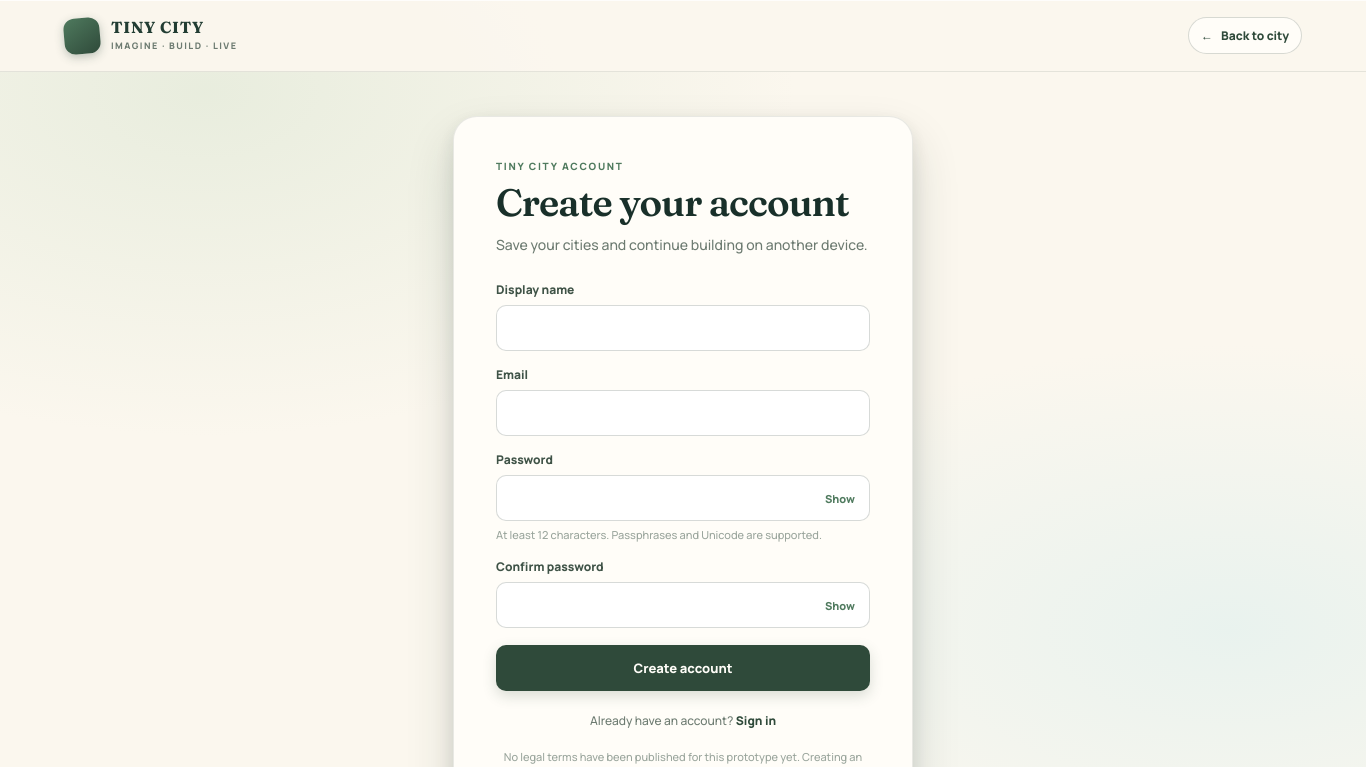
it: account entry flows › shows the email delivery result instead of signing a new account in automatically
Type "Huy" into the field labelled "Display name". click: (683, 328)
box: [496,305,870,351]
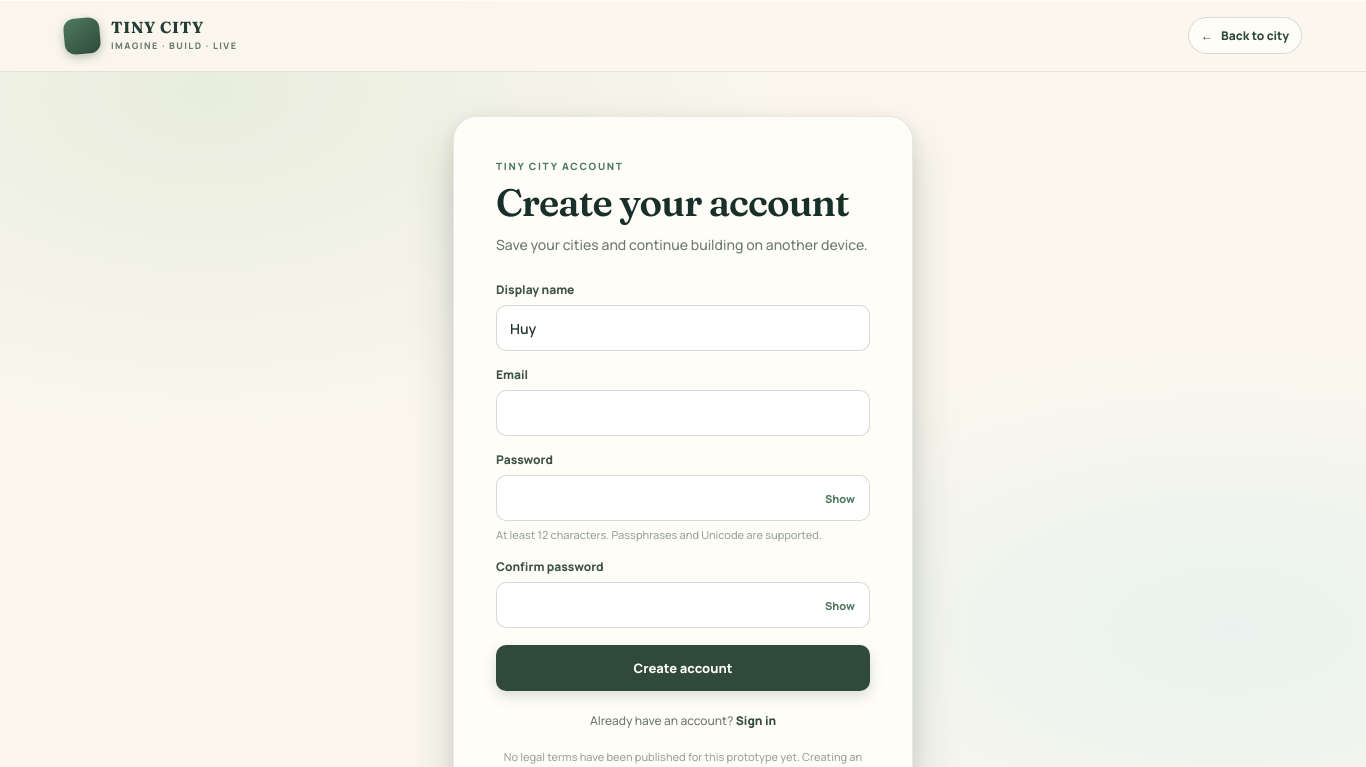
Type "huy@example.com" into the field labelled "Email". click: (683, 413)
box: [496,390,870,436]
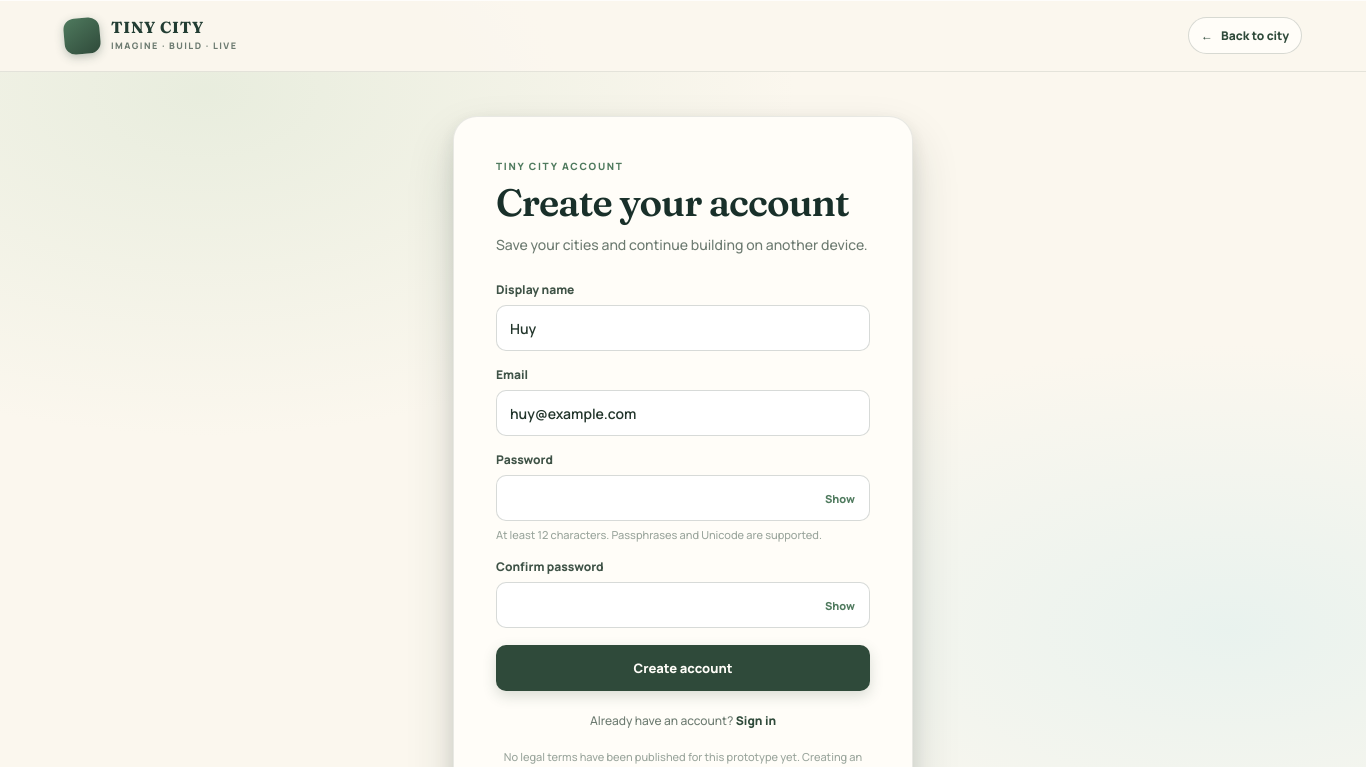
Type "a sufficiently long passphrase" into the password field labelled "Password". click: (683, 498)
box: [496,475,870,521]
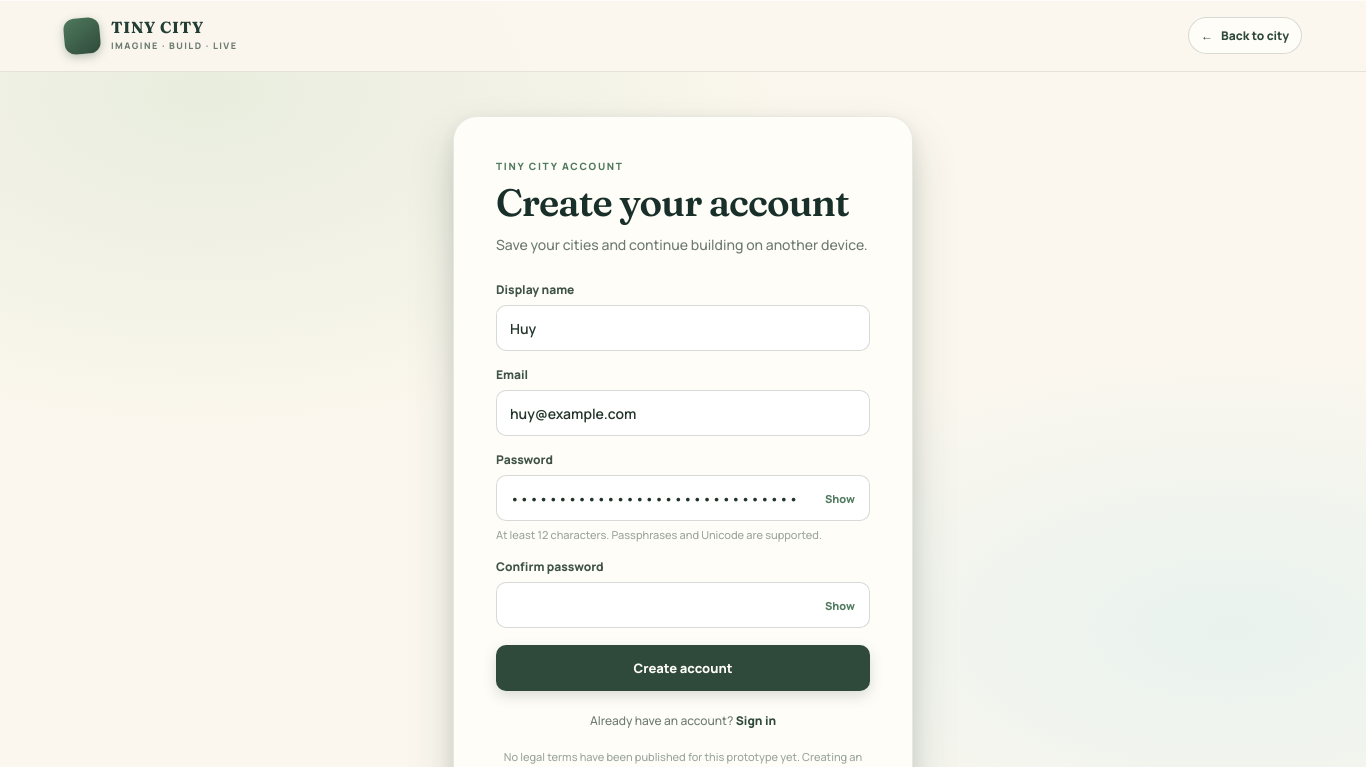
Type "a sufficiently long passphrase" into the password field labelled "Confirm password". click: (683, 606)
box: [496,582,870,628]
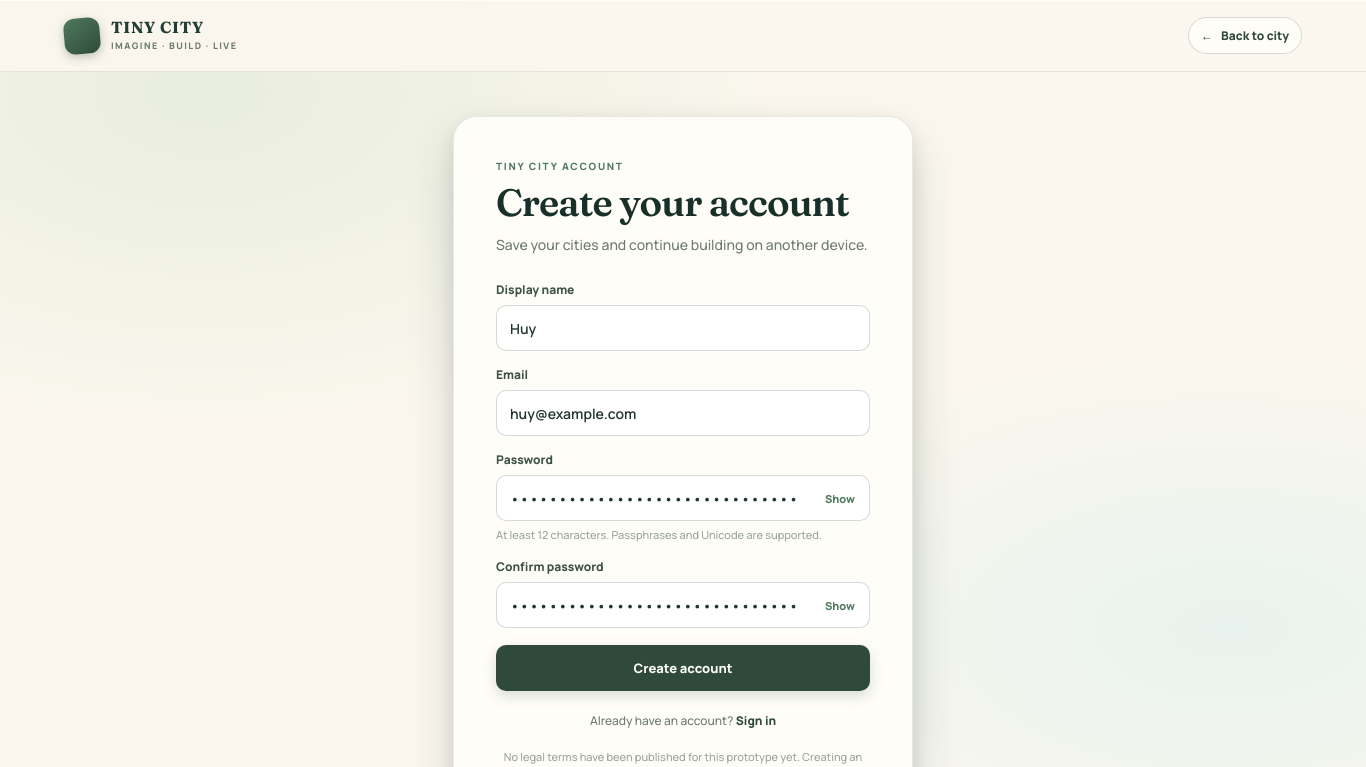
Click the button "Create account". click: (683, 668)
box: [496,646,870,692]
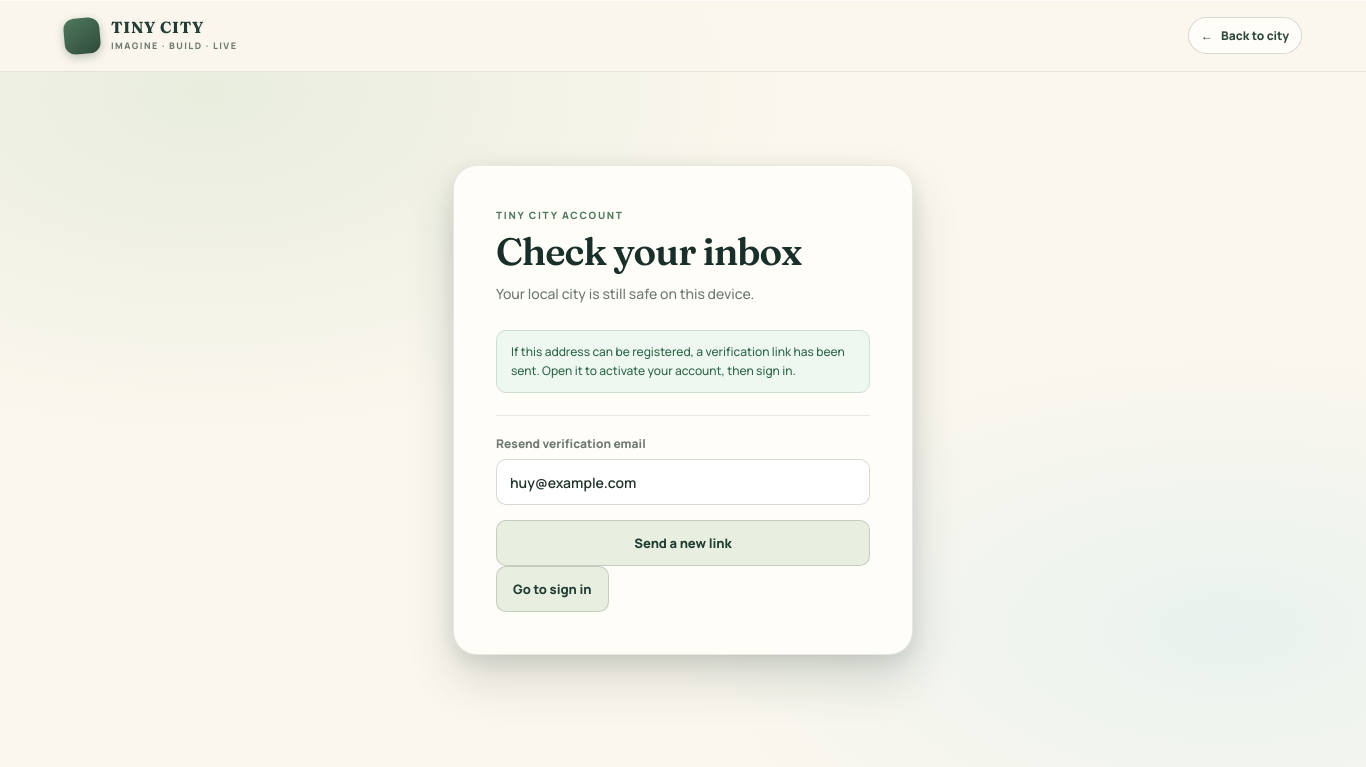
Expected: the heading "Check your inbox" is shown, [496,228,801,275]
Expected: the message shows "verification link has been sent", [511,343,845,379]
